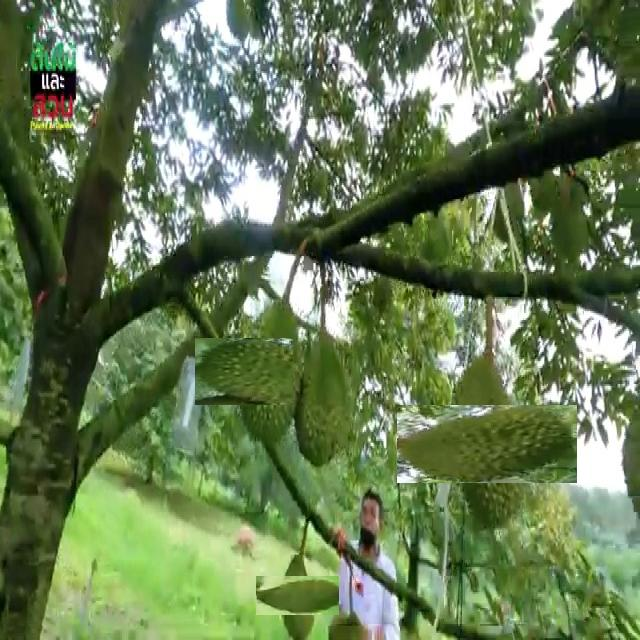durian: (423, 379, 552, 509), (216, 317, 326, 426), (293, 326, 356, 469), (267, 565, 328, 626)
